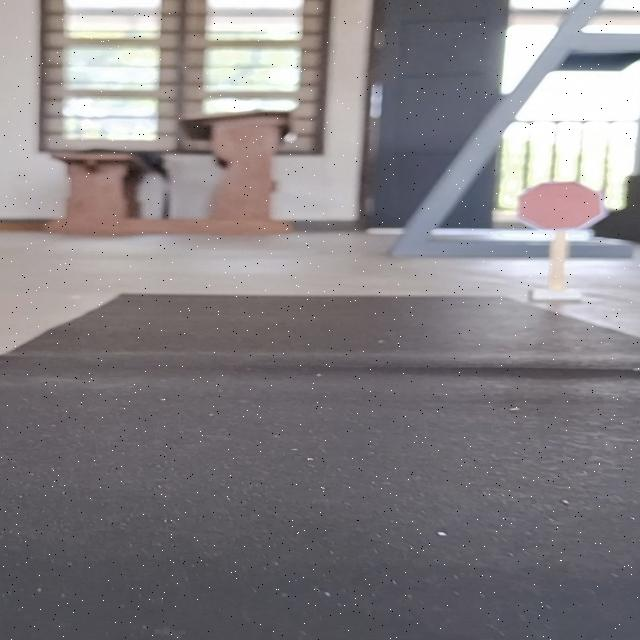Stop: (508, 180, 614, 233)
